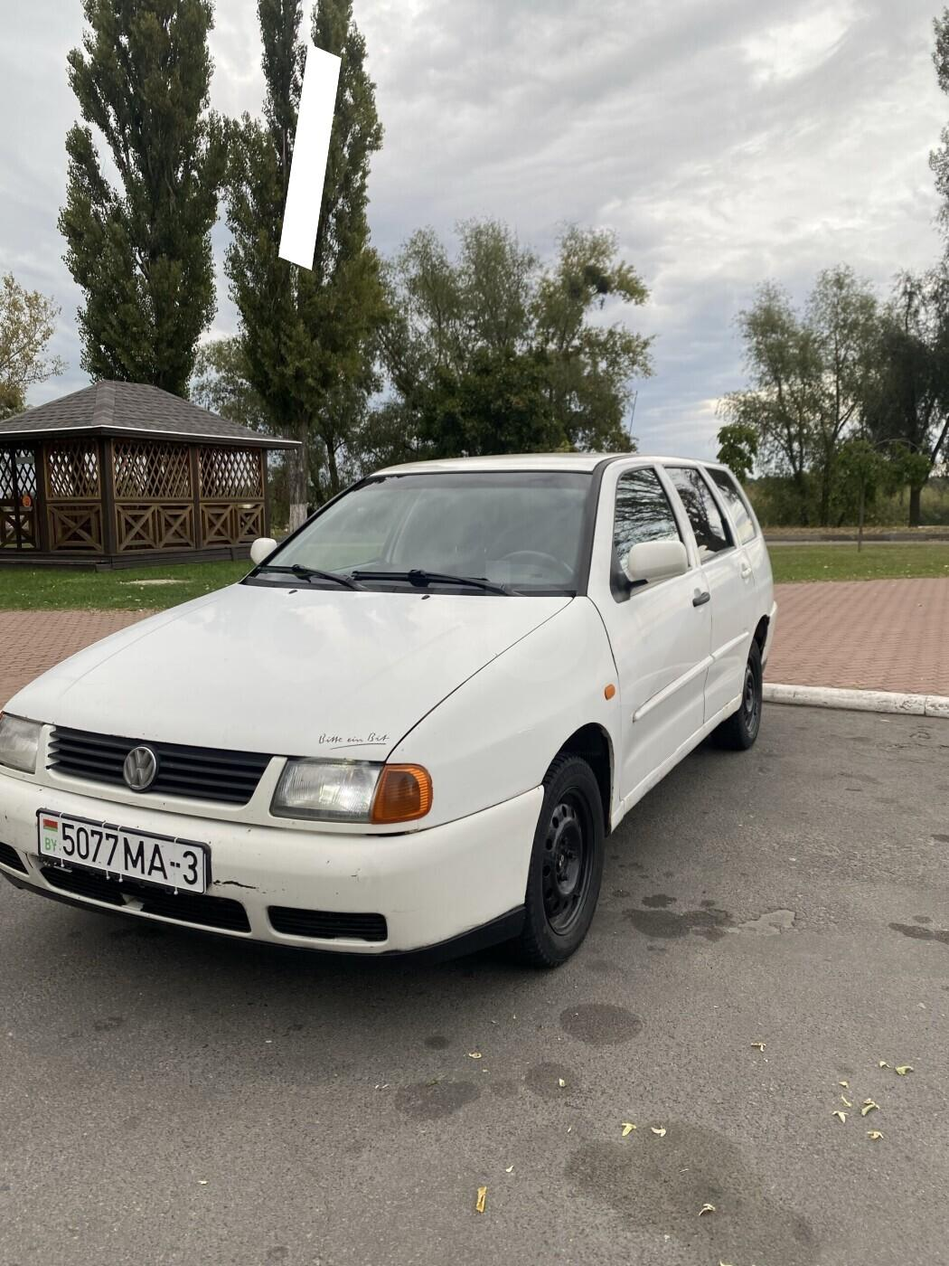Polo_1994-2002: (0, 422, 791, 993)
